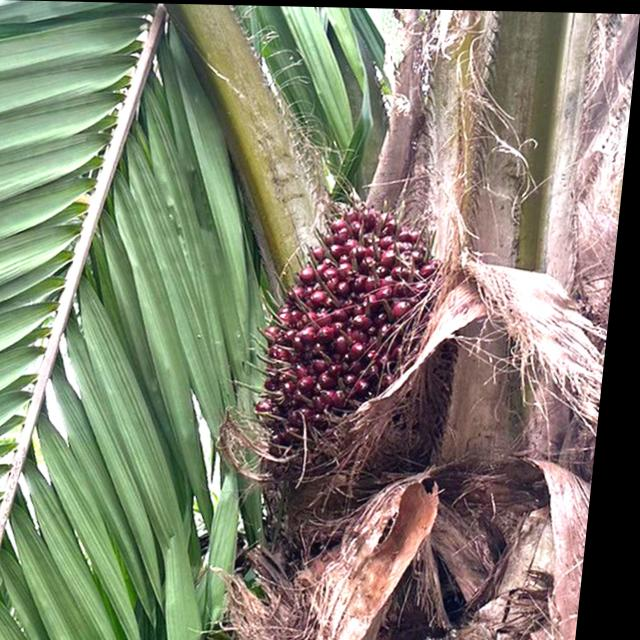ripe: (220, 159, 493, 495)
